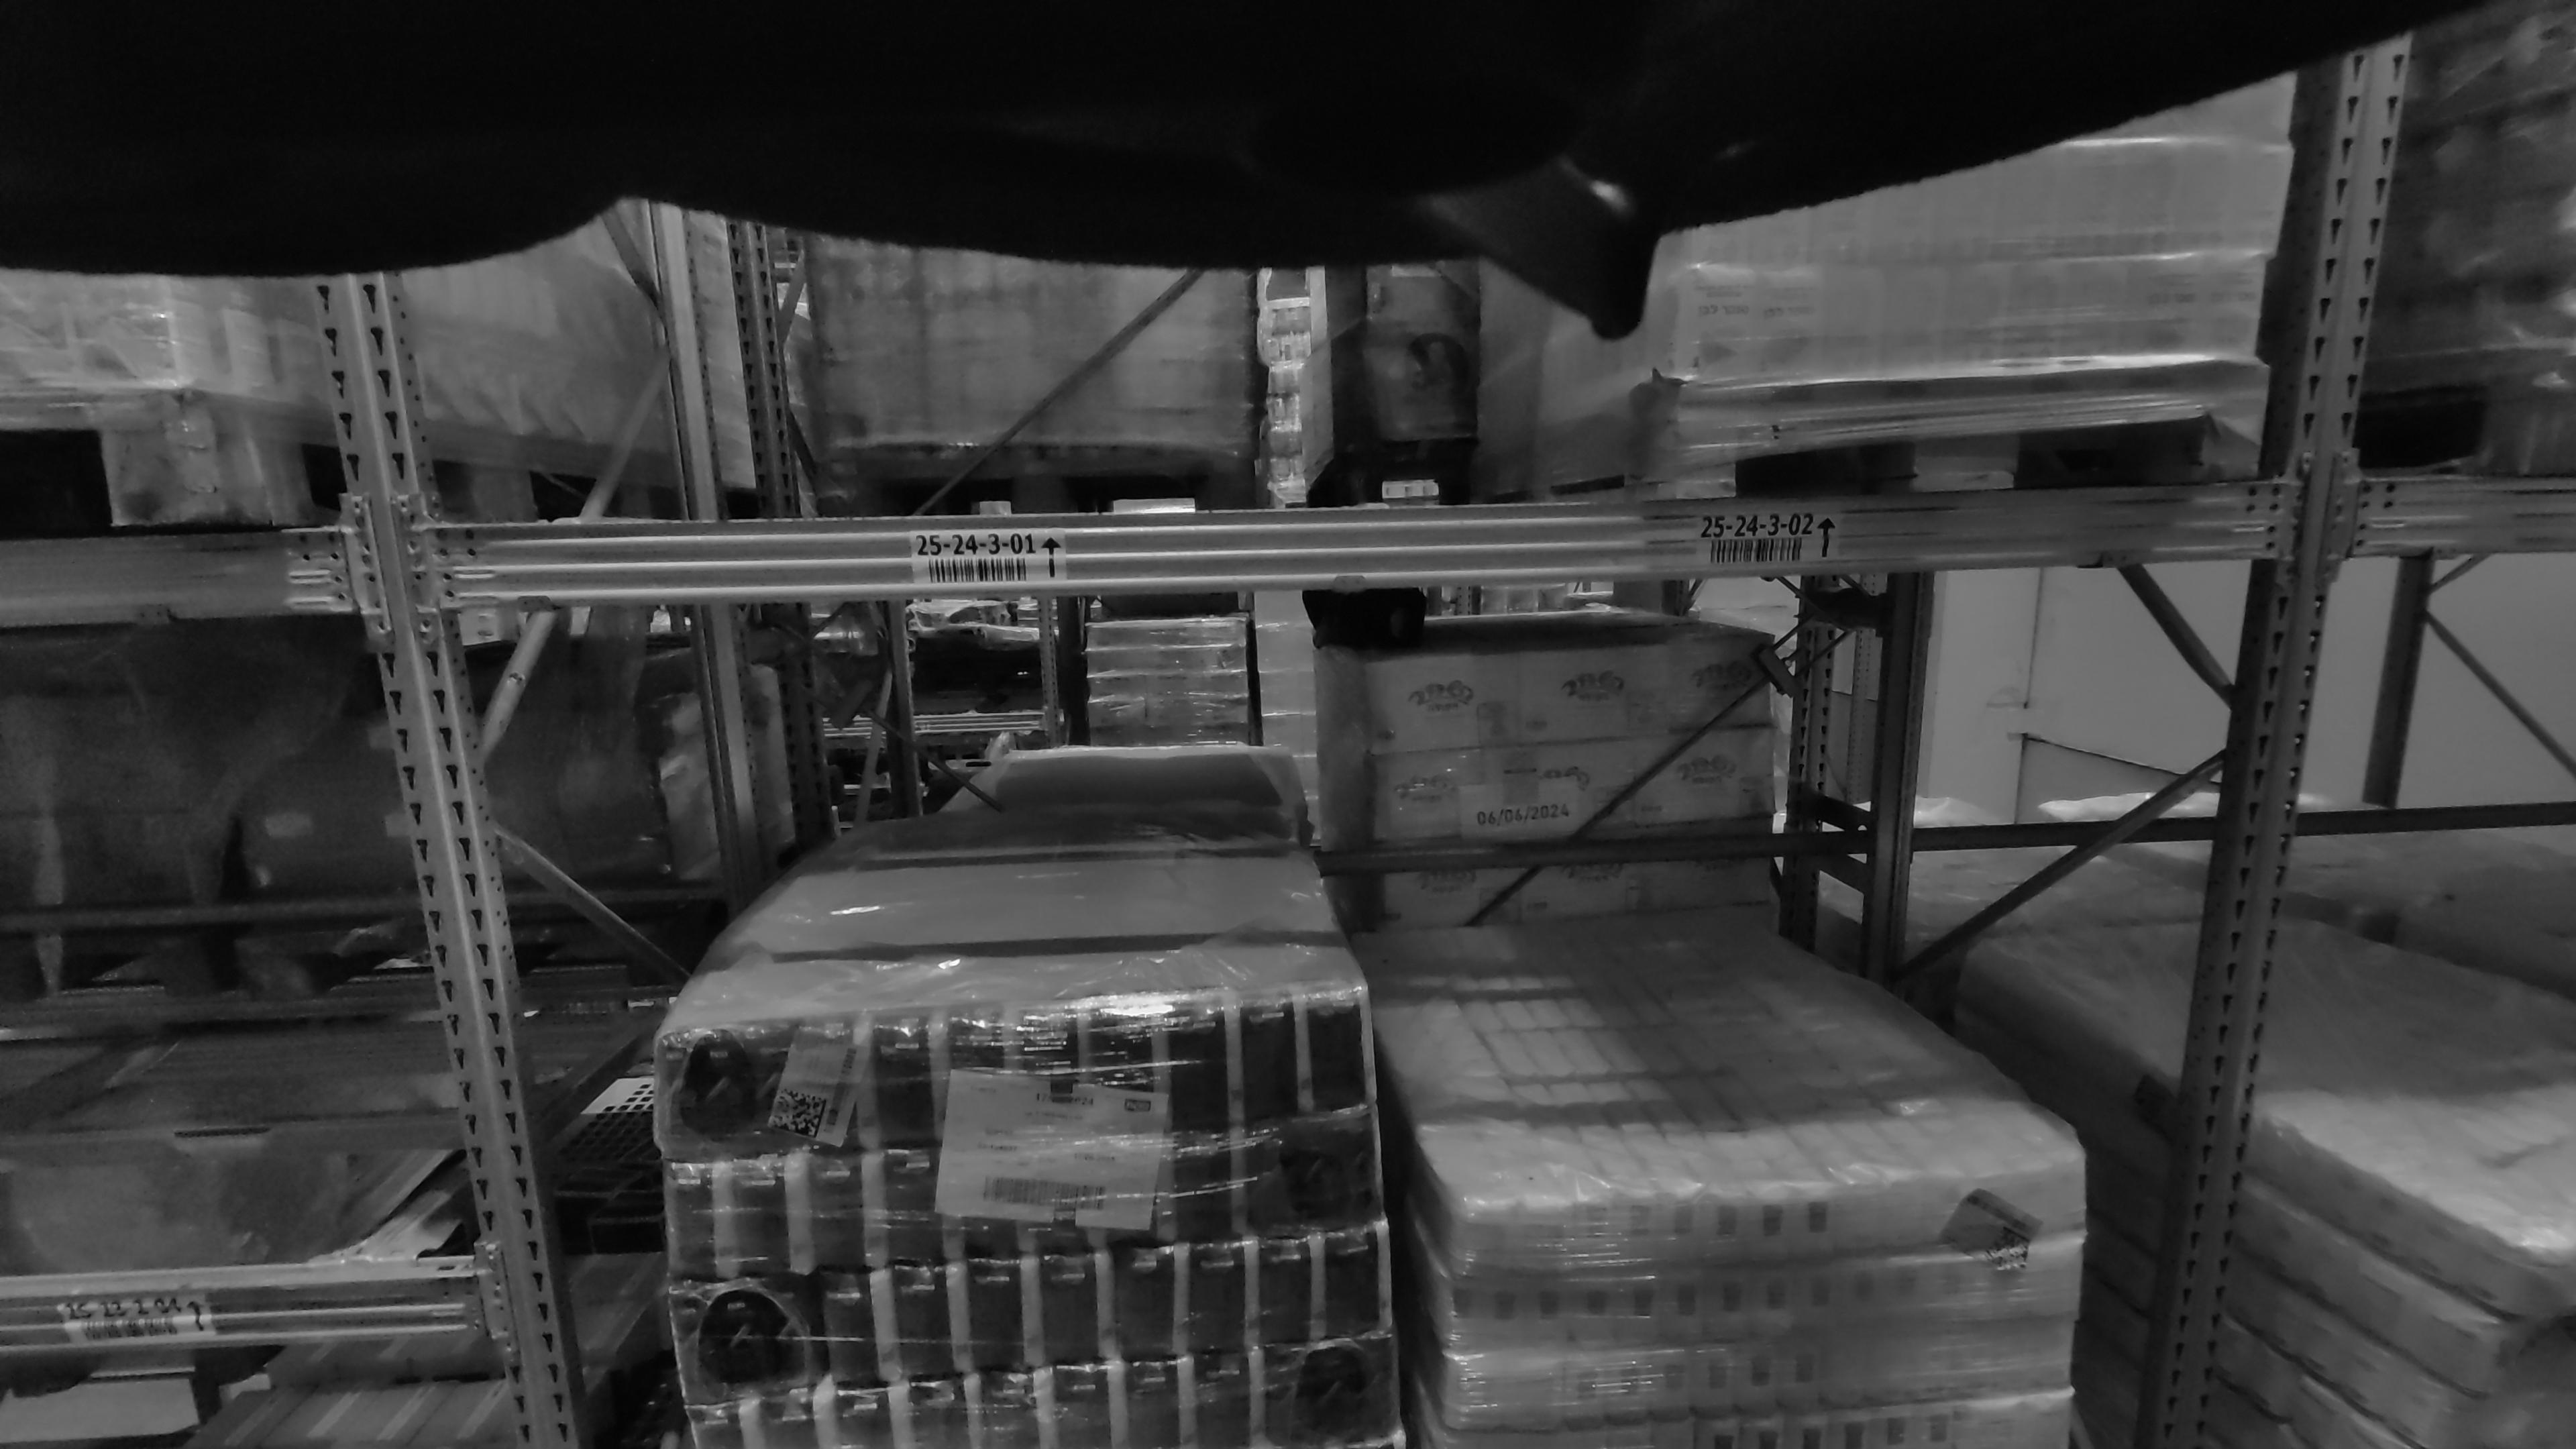empty-shelf: (494, 221, 1467, 497), (0, 630, 375, 1265)
